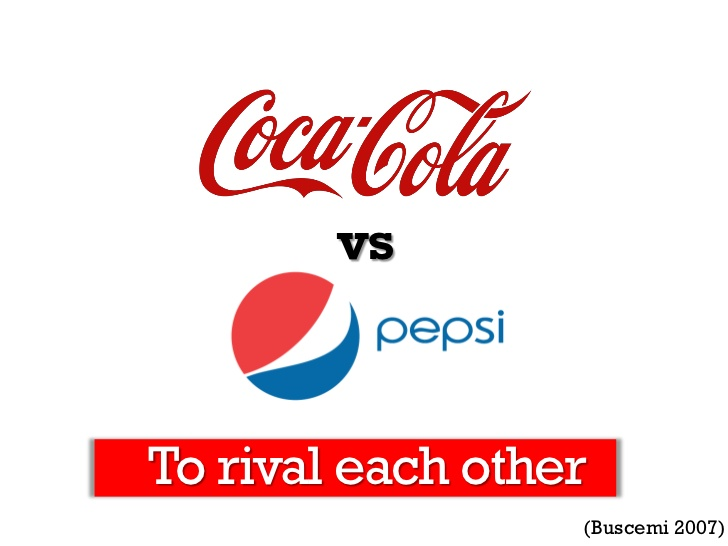pepsi: (231, 270, 360, 402), (233, 277, 360, 402)
